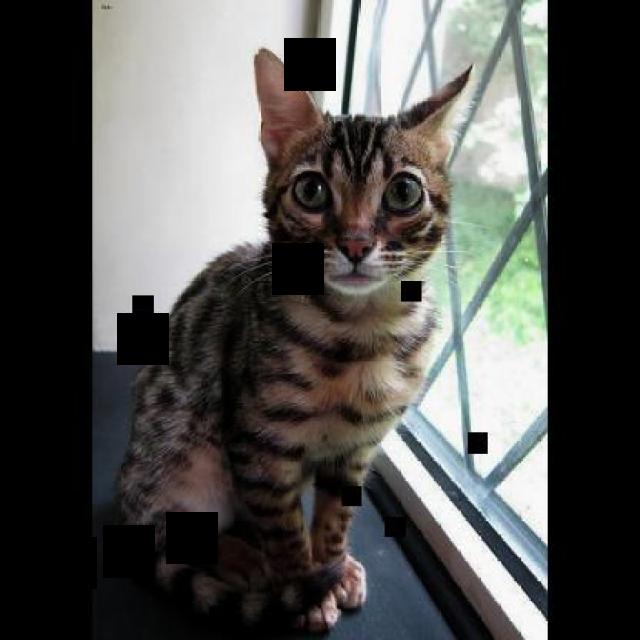unauthorized: (114, 44, 477, 636)
